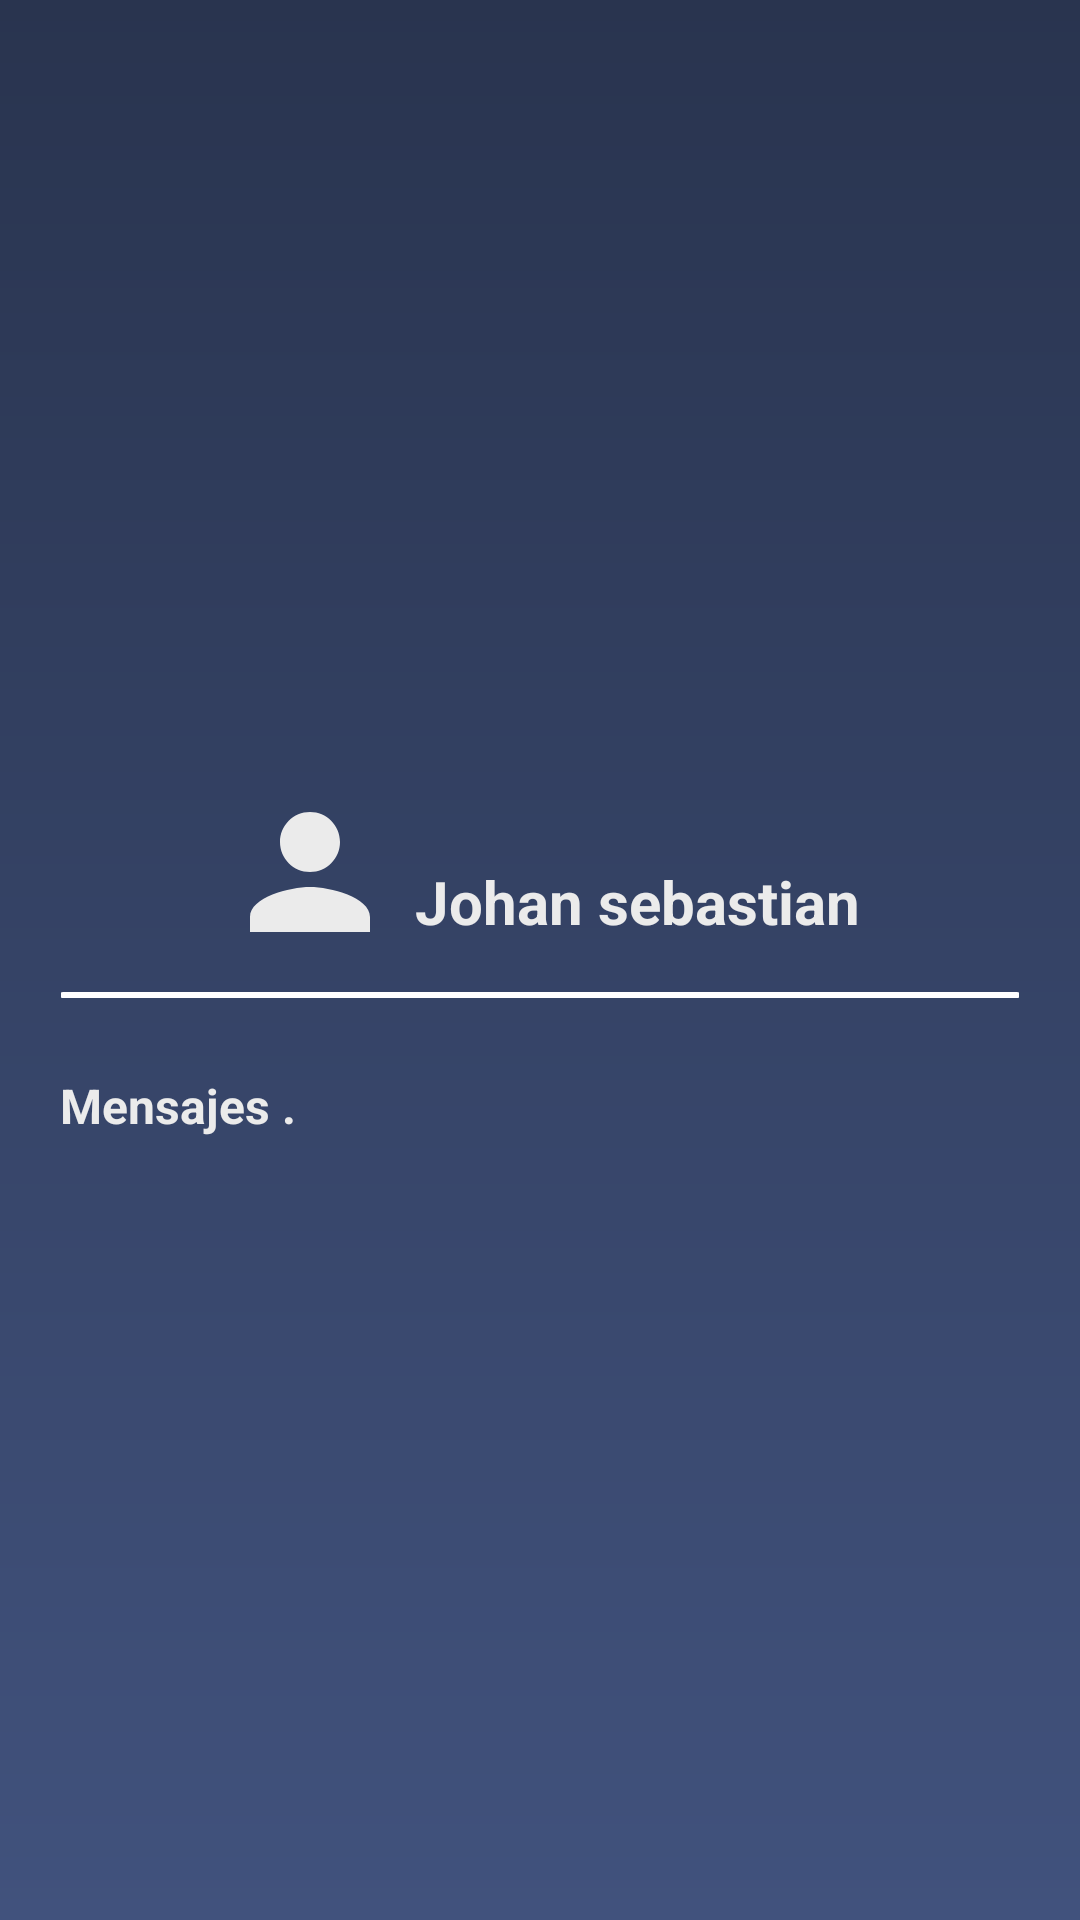

Screen size 1080px x 1920px. Icon name, then its center in pixels as (x=x, y=y):
person: (x=310, y=872)
